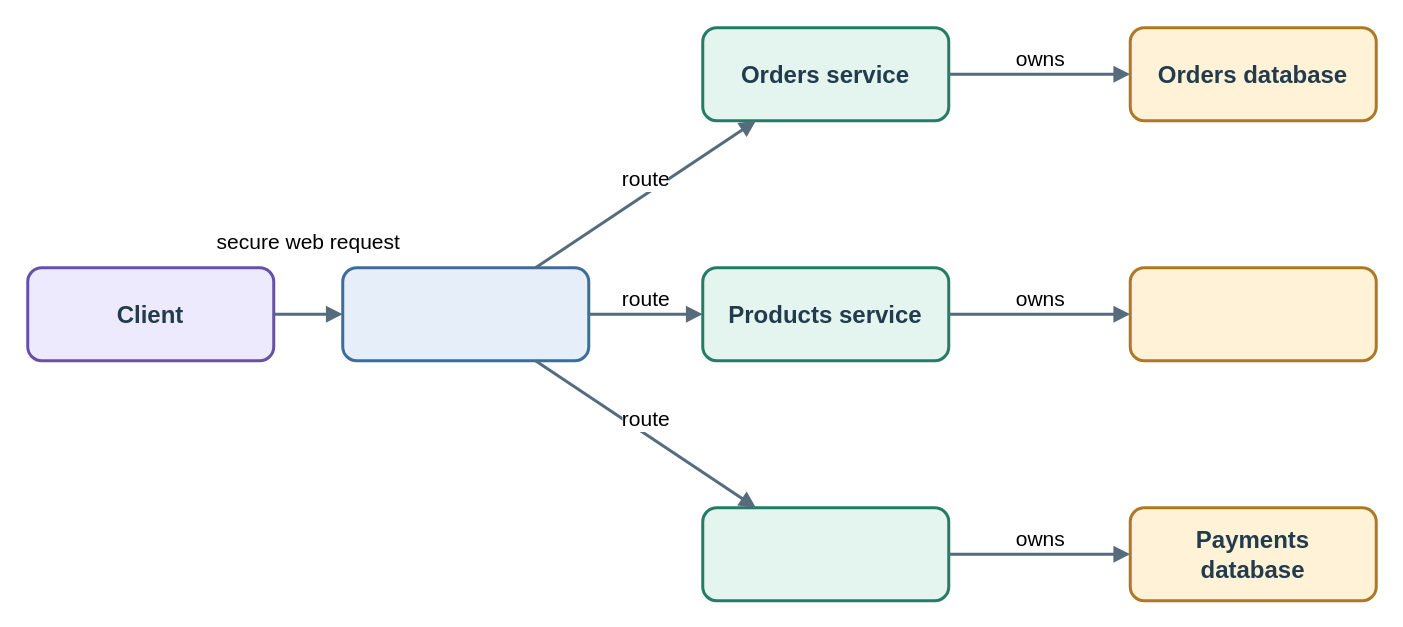
Image size: 1403x627. Some labels were removed from this diagram. Each missing label, with the centre of its shape:
"Payments service" belongs at point 825,554.
"Products database" belongs at point 1252,314.
"Request gateway" belongs at point 465,314.
